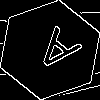A: (25, 25, 83, 82)
